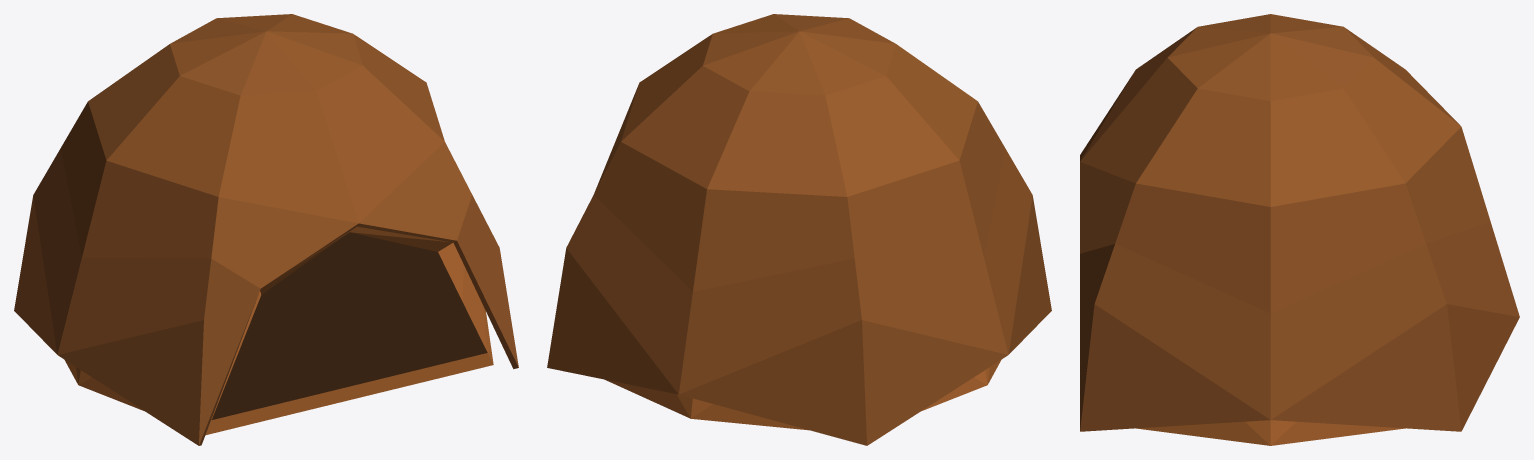
The model's file is Tent_2_Orange.fbx.
The picture shows the model from 3 angles, left to right: view 1: azimuth 30°, elevation 25°; view 2: azimuth 150°, elevation 25°; view 3: azimuth 270°, elevation 25°; orthographic projection. The views are drawn at different scales.
Visible parts, largest first — view 1: Tent_2_Orange; view 2: Tent_2_Orange; view 3: Tent_2_Orange.
Boxes of the visible parts, x1,y1,x2,y2 form: Tent_2_Orange: (14, 14, 518, 445); Tent_2_Orange: (547, 14, 1051, 445); Tent_2_Orange: (1080, 14, 1519, 445).
Size of the model in its own units: 259 by 183 by 228.
